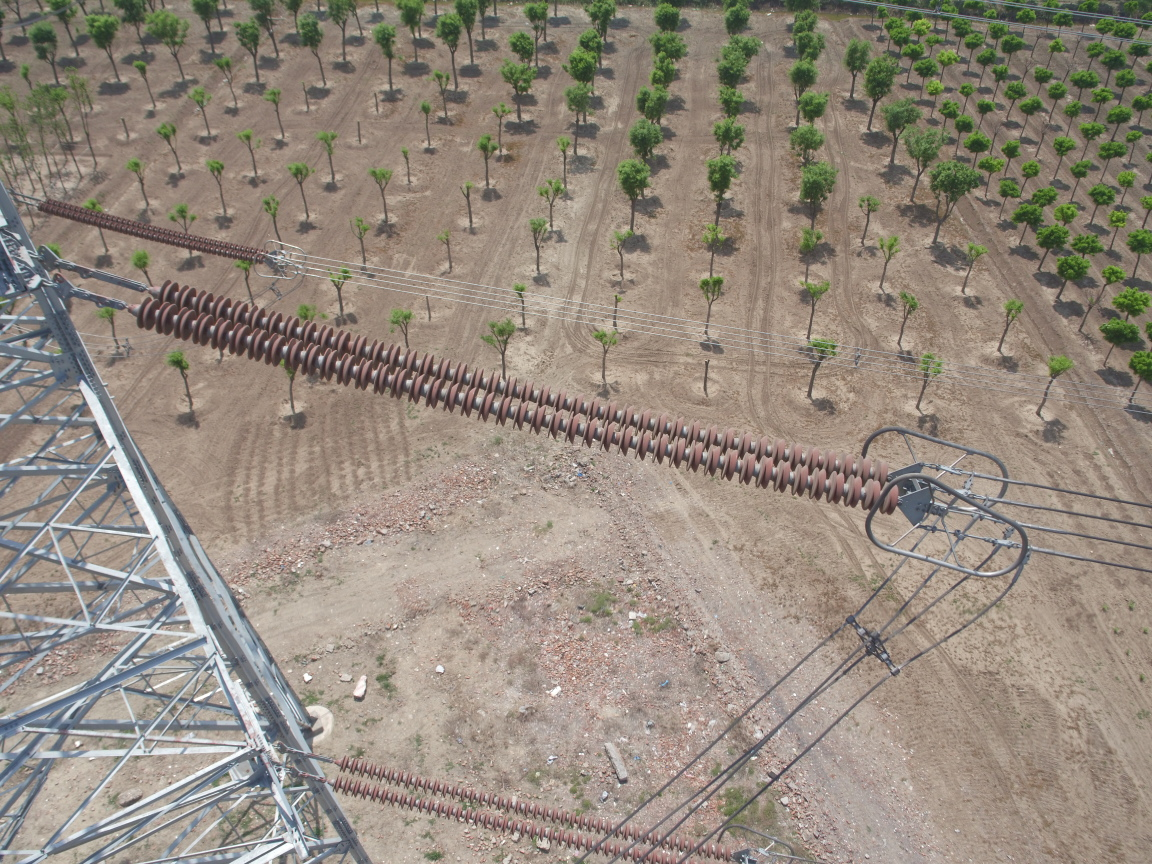insulator: (105, 273, 911, 520), (311, 752, 750, 864), (28, 194, 270, 264)
